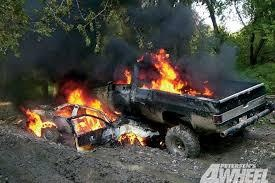fire: (27, 85, 116, 135), (127, 48, 213, 97), (19, 108, 57, 137)
